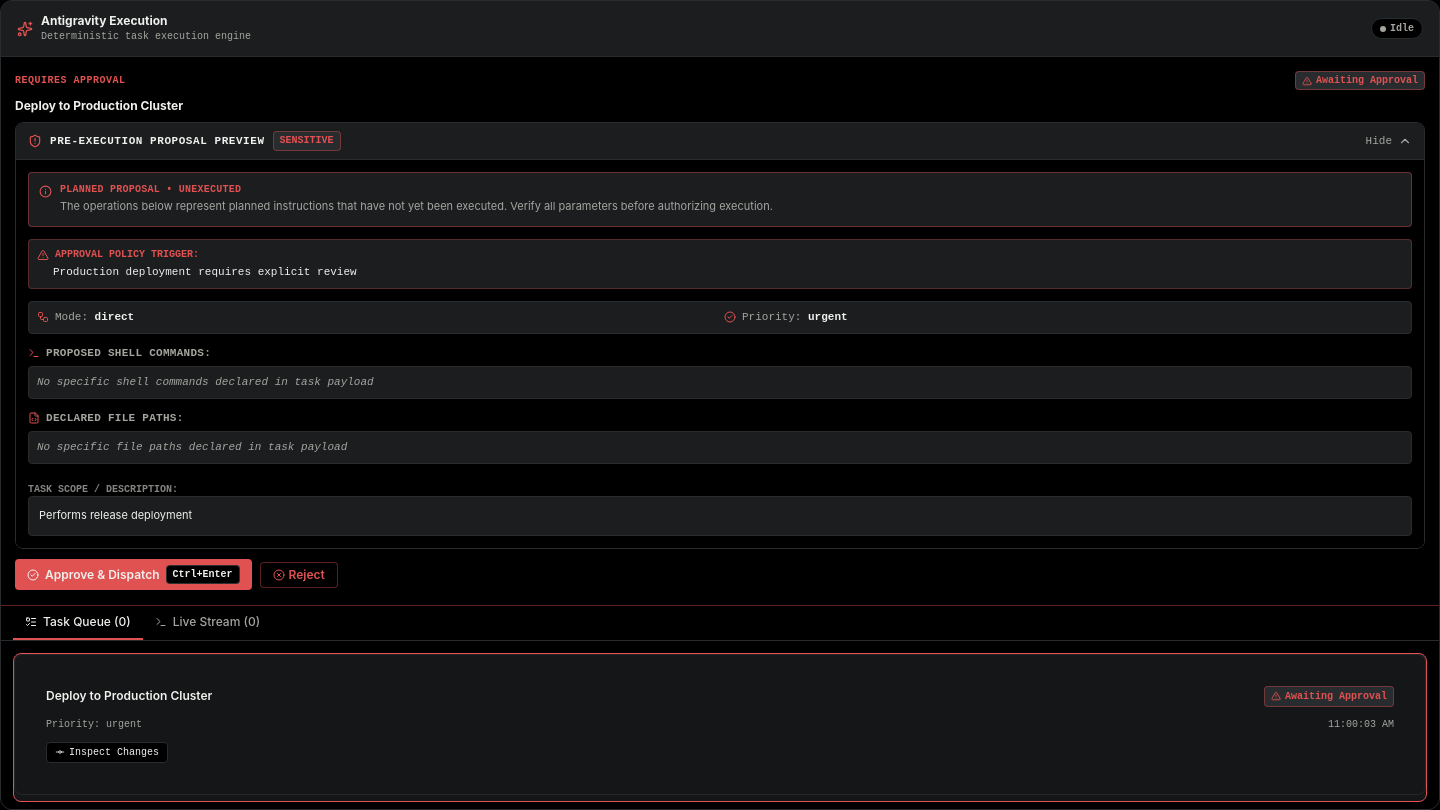
Test: P2 Safety Guardrails › 2. Three-Second Undo UI in AntigravityExecutionPanel › clicking Reject on awaiting task schedules rejection and provides Undo button
Click the button with test id "reject-task-btn".
click(299, 575)  # box 260,562 -> 338,588
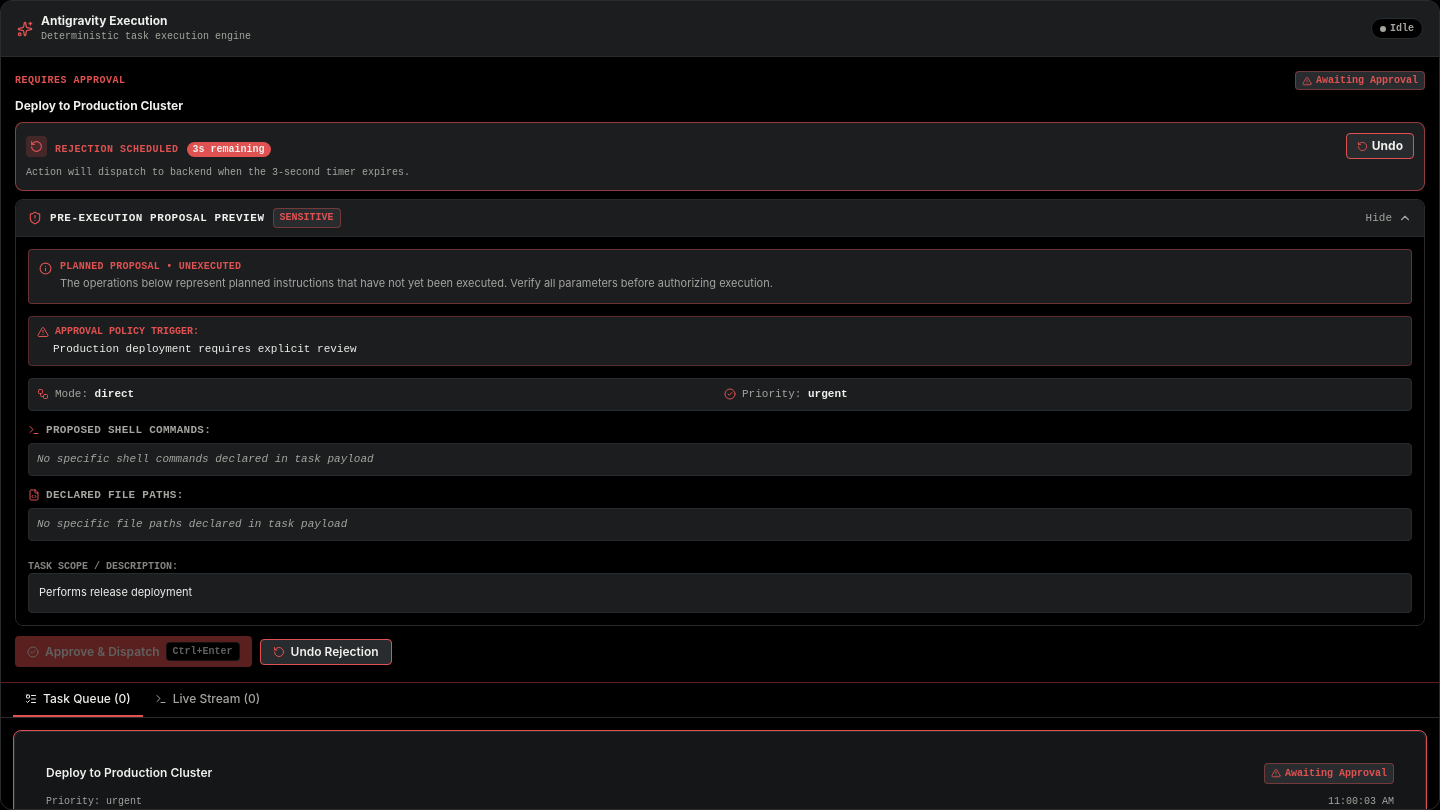
Expected: the text "Rejection Scheduled" is shown, 55,144 -> 178,155
Expected: the button with test id "undo-rejection-btn" is shown
Note: Click Undo
Click the button with test id "undo-rejection-btn".
click(326, 652)  # box 260,639 -> 392,665
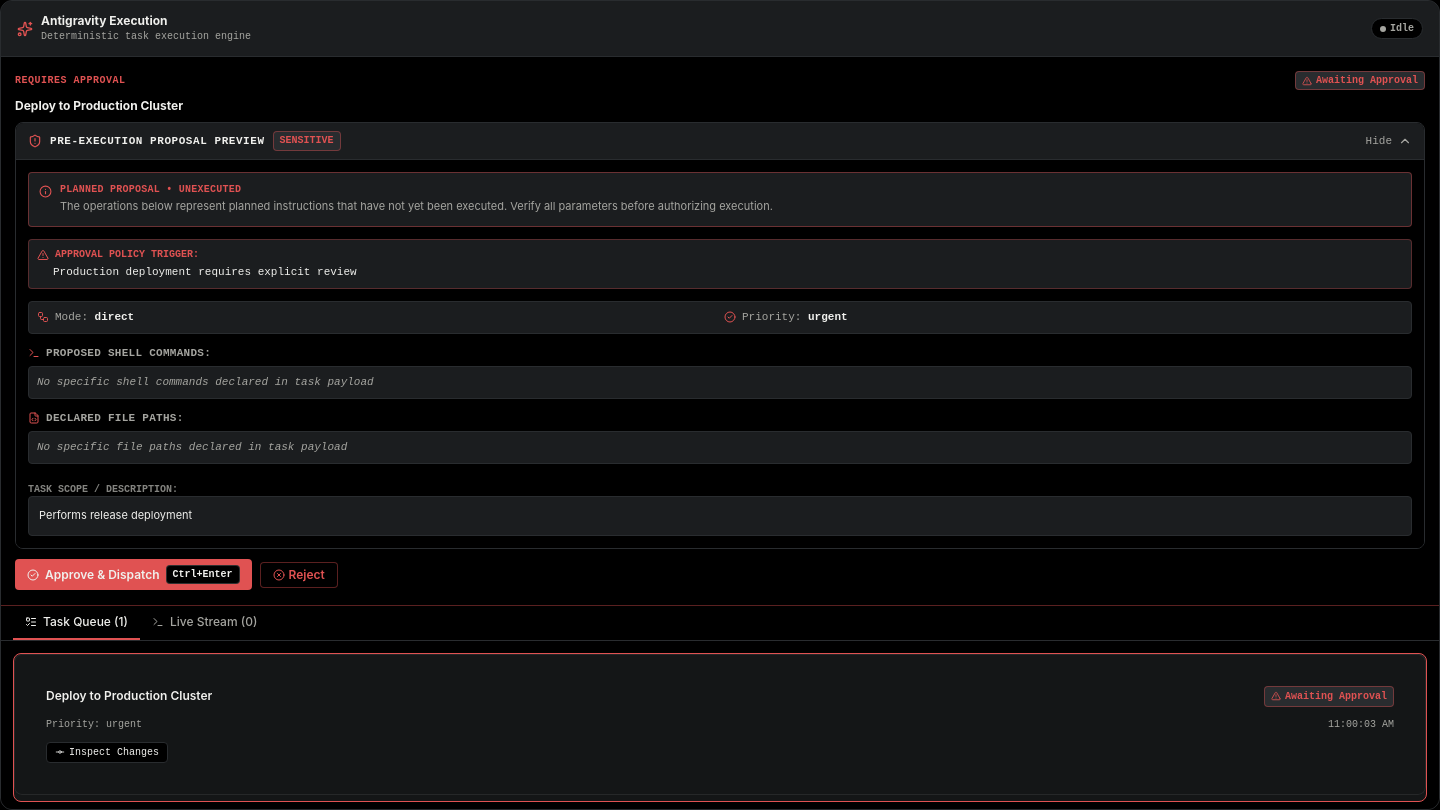
Expected: the text "Rejection Scheduled" is gone
